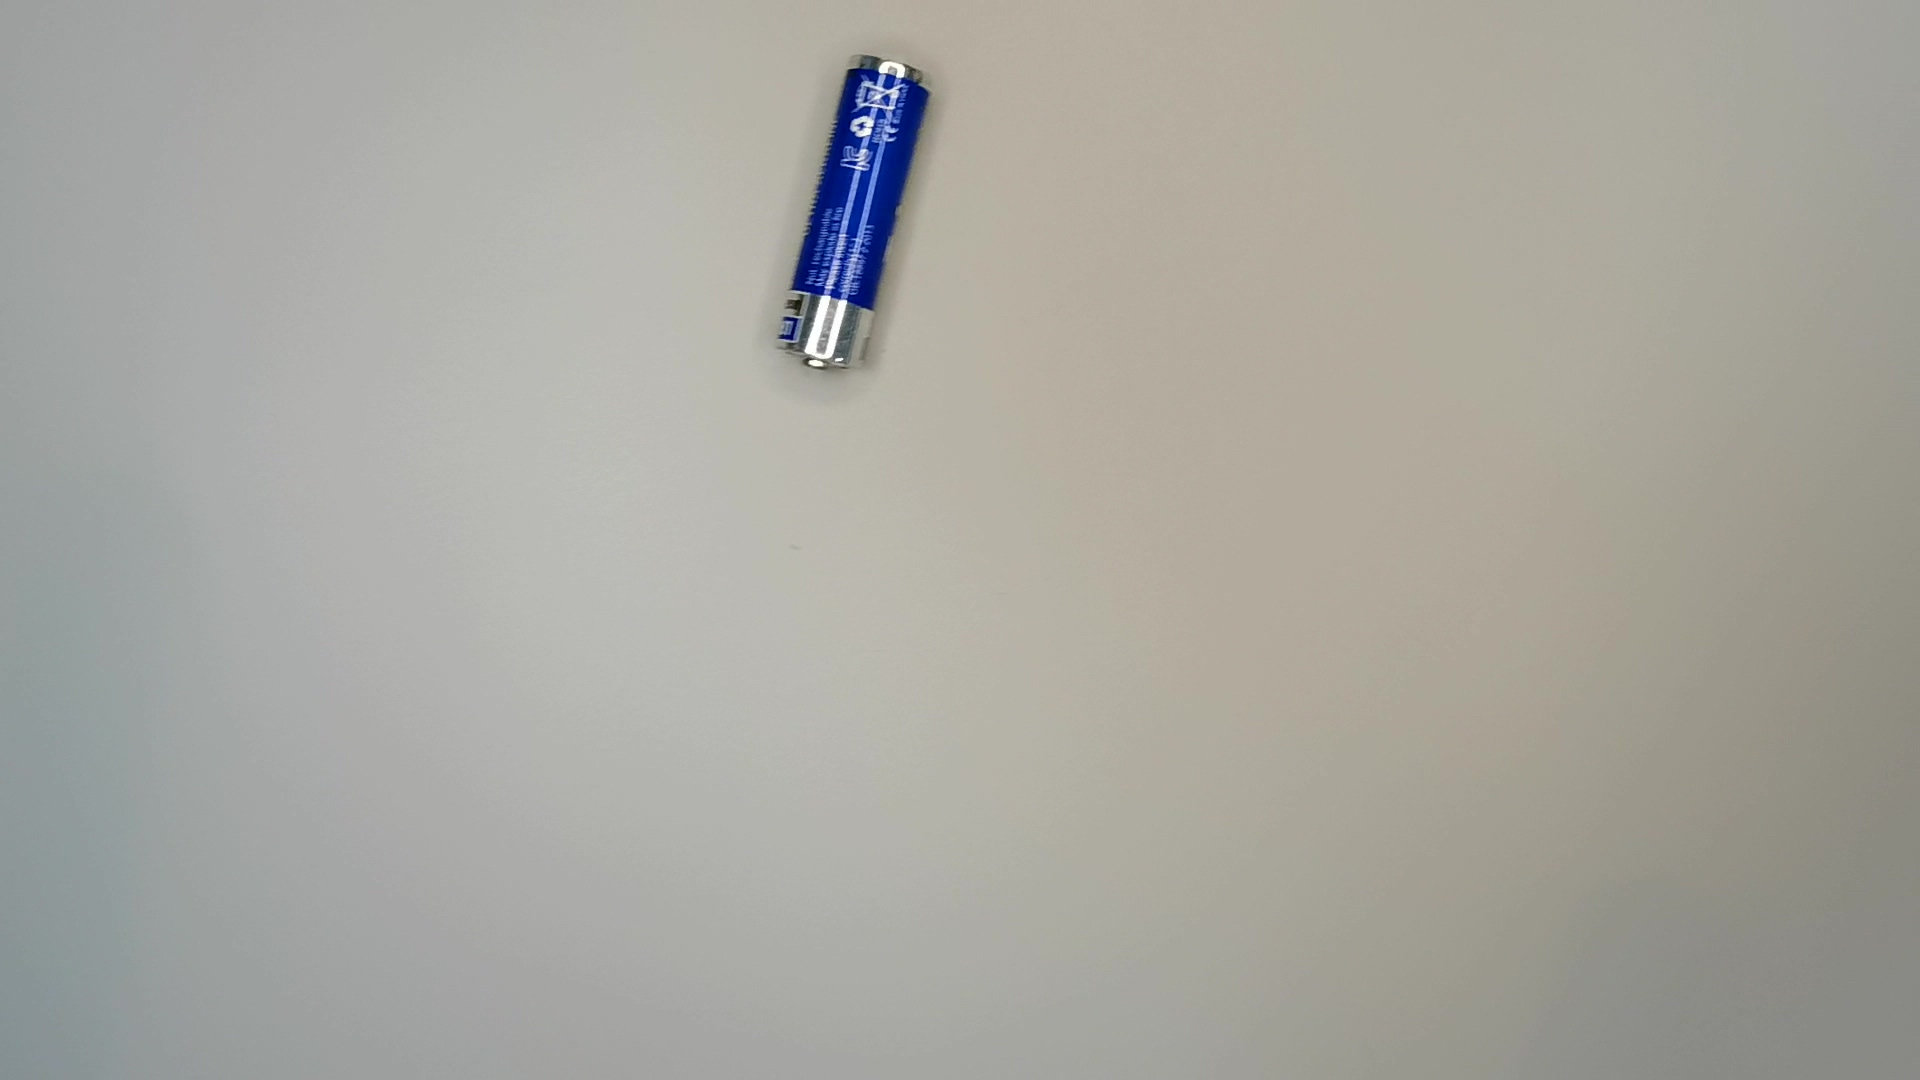battery: (771, 51, 945, 375)
